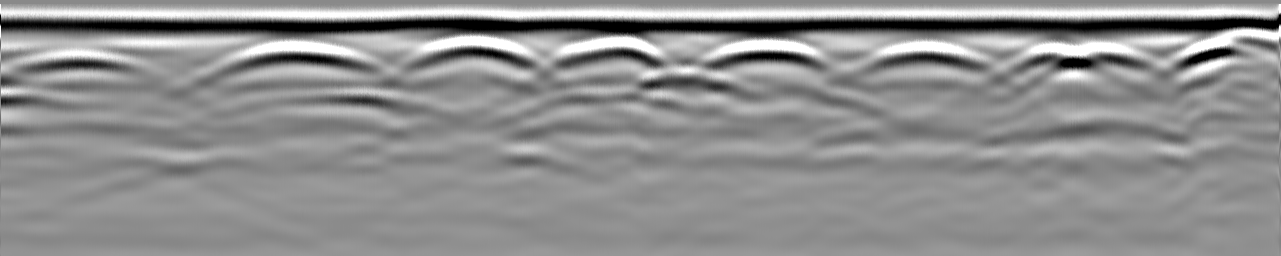steel: (210, 33, 385, 82), (397, 30, 549, 81), (7, 48, 173, 86), (1011, 37, 1158, 77), (853, 39, 994, 76), (696, 35, 835, 71), (551, 33, 672, 73), (1167, 34, 1274, 76)
